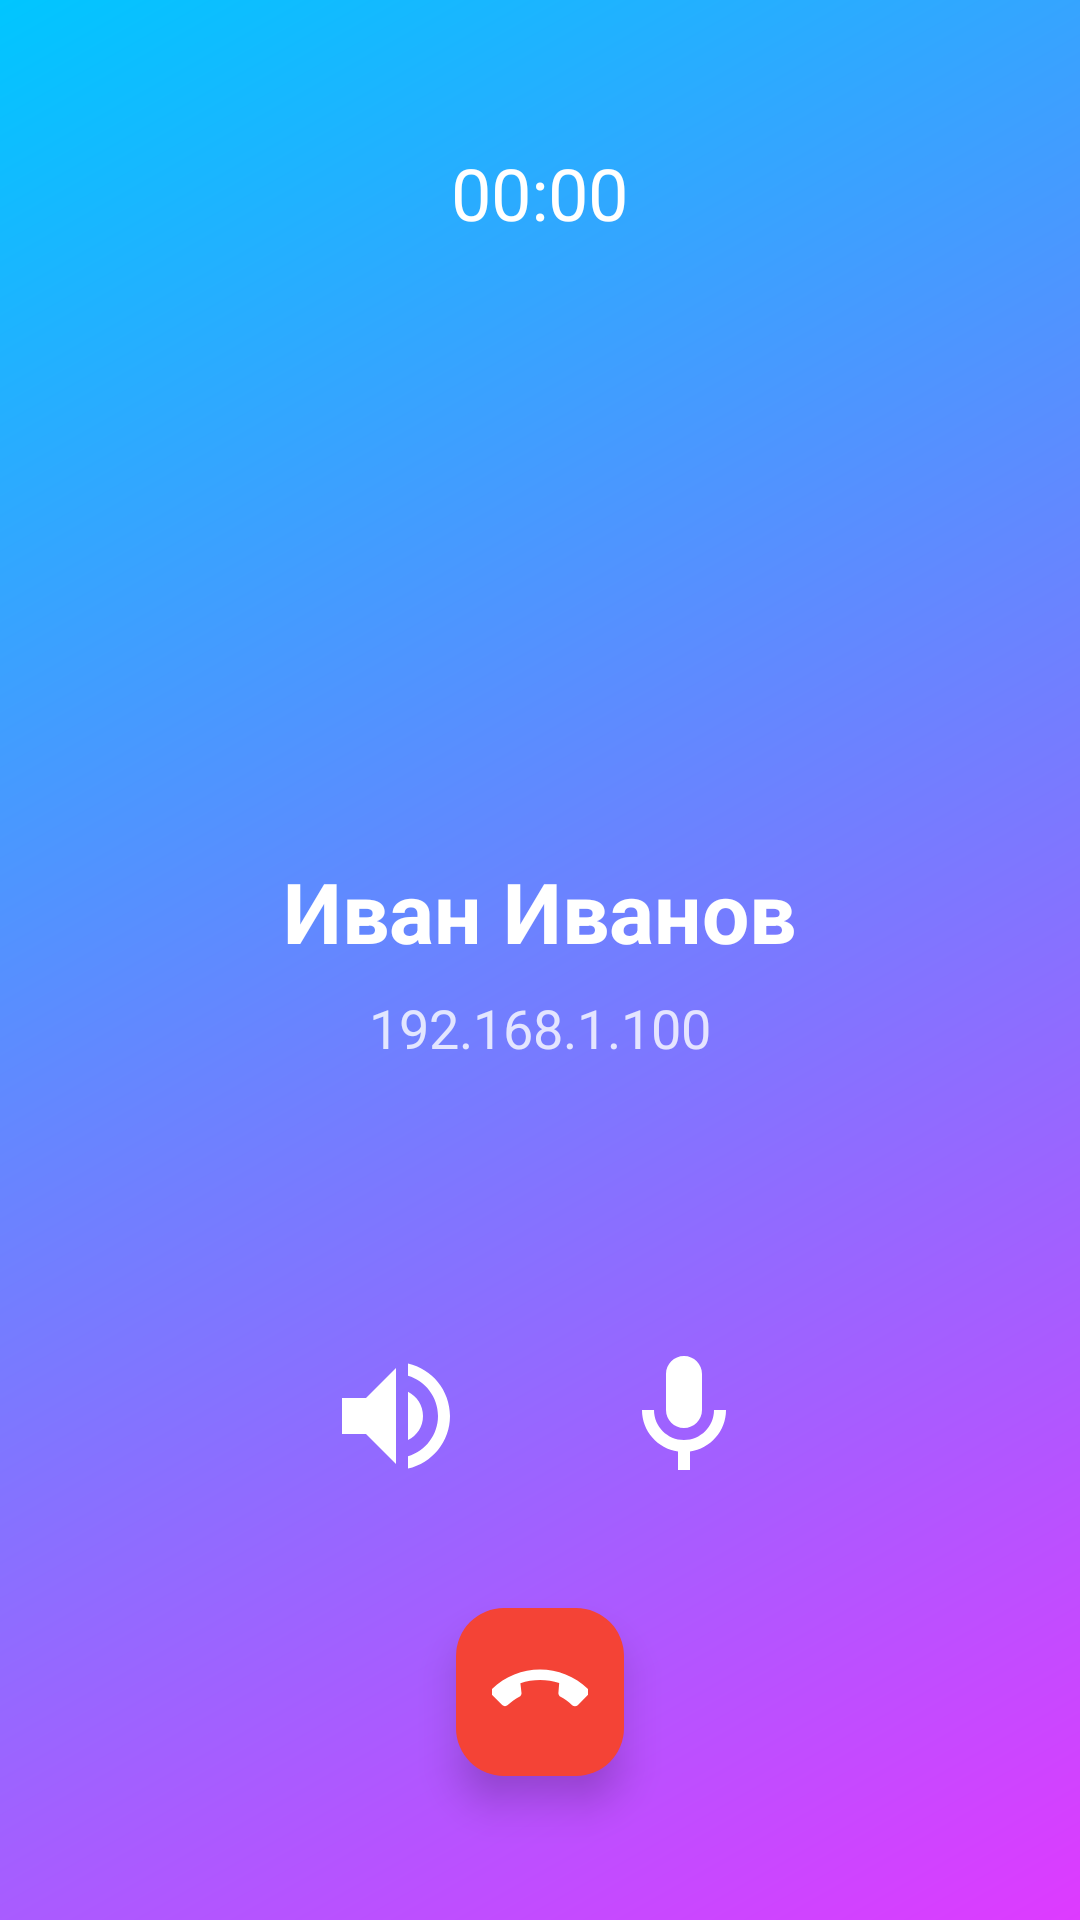

Icons on this 1080px x 1920px Android screen, each with its box as (x1=x1, y1=y1, x2=x2, y2=y2):
Громкая связь: (x1=300, y1=1320, x2=492, y2=1499)
Завершить: (x1=456, y1=1608, x2=624, y2=1776)
